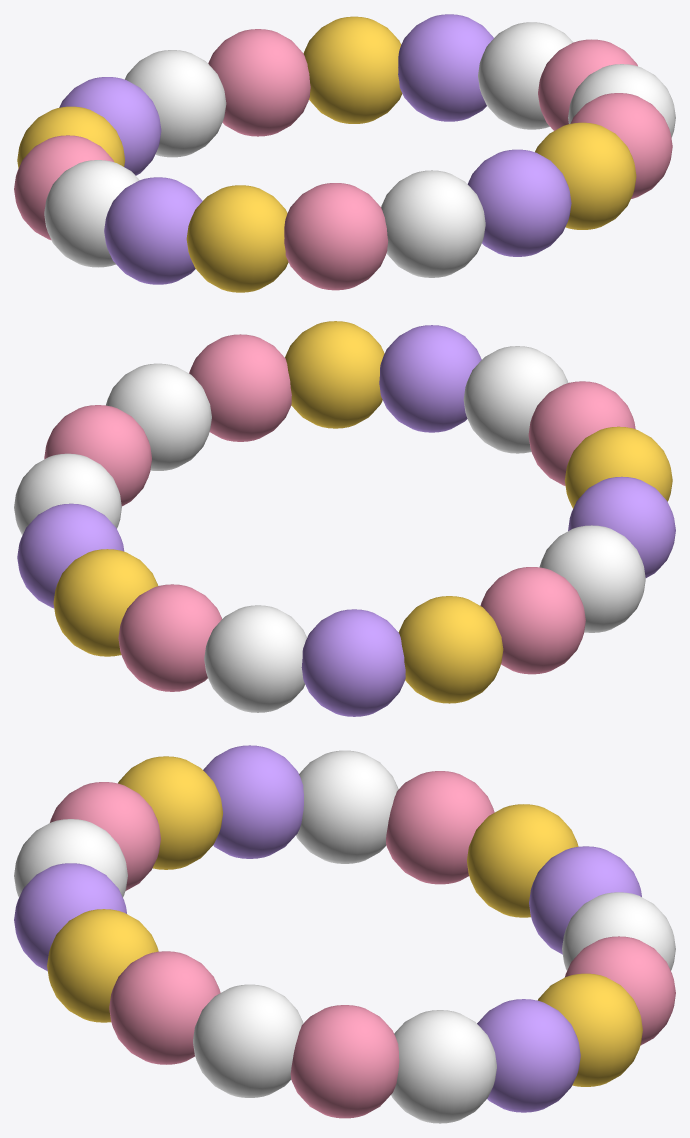
File: flower_lei.fbx
3 renders of one model, top to bottom at view 1: azimuth 30°, elevation 25°; view 2: azimuth 150°, elevation 25°; view 3: azimuth 270°, elevation 25°, orthographic. The views are drawn at different scales.
Visible parts, largest first — view 1: Sphere170, Sphere171, Sphere169, Sphere161, Sphere172, Sphere162, Sphere168, Sphere160, Sphere173, Sphere163, Sphere167, Sphere159 (+6 smaller); view 2: Sphere164, Sphere165, Sphere163, Sphere173, Sphere162, Sphere172, Sphere166, Sphere174, Sphere171, Sphere161, Sphere167, Sphere175 (+6 smaller); view 3: Sphere158, Sphere175, Sphere159, Sphere174, Sphere167, Sphere166, Sphere160, Sphere168, Sphere173, Sphere165, Sphere169, Sphere161 (+6 smaller).
Part boxes in pixels (bbox=[...]): Sphere170: bbox=[284, 183, 388, 290]; Sphere171: bbox=[381, 170, 485, 277]; Sphere169: bbox=[186, 185, 288, 292]; Sphere161: bbox=[303, 16, 402, 123]; Sphere172: bbox=[467, 149, 571, 256]; Sphere162: bbox=[208, 29, 310, 136]; Sphere168: bbox=[104, 177, 202, 284]; Sphere160: bbox=[398, 14, 493, 121]; Sphere173: bbox=[535, 122, 636, 229]; Sphere163: bbox=[125, 50, 226, 157]; Sphere167: bbox=[44, 160, 139, 267]; Sphere159: bbox=[478, 22, 573, 129]; Sphere164: bbox=[301, 609, 405, 716]; Sphere165: bbox=[398, 596, 503, 703]; Sphere163: bbox=[204, 605, 306, 712]; Sphere173: bbox=[285, 321, 384, 428]; Sphere162: bbox=[118, 584, 221, 691]; Sphere172: bbox=[379, 325, 481, 432]; Sphere166: bbox=[480, 567, 585, 674]; Sphere174: bbox=[189, 334, 291, 441]; Sphere171: bbox=[463, 346, 568, 453]; Sphere161: bbox=[53, 549, 158, 656]; Sphere167: bbox=[539, 525, 645, 632]; Sphere175: bbox=[106, 363, 211, 470]; Sphere158: bbox=[290, 1005, 399, 1118]; Sphere175: bbox=[193, 984, 303, 1097]; Sphere159: bbox=[391, 1010, 496, 1123]; Sphere174: bbox=[109, 951, 220, 1064]; Sphere167: bbox=[296, 750, 398, 863]; Sphere166: bbox=[386, 771, 494, 884]; Sphere160: bbox=[477, 999, 580, 1112]; Sphere168: bbox=[203, 745, 303, 858]; Sphere173: bbox=[47, 909, 158, 1022]; Sphere165: bbox=[467, 804, 578, 917]; Sphere169: bbox=[118, 756, 222, 869]; Sphere161: bbox=[537, 973, 642, 1086].
Size of the model in its own units: 15.7 by 4.27 by 14.51.
